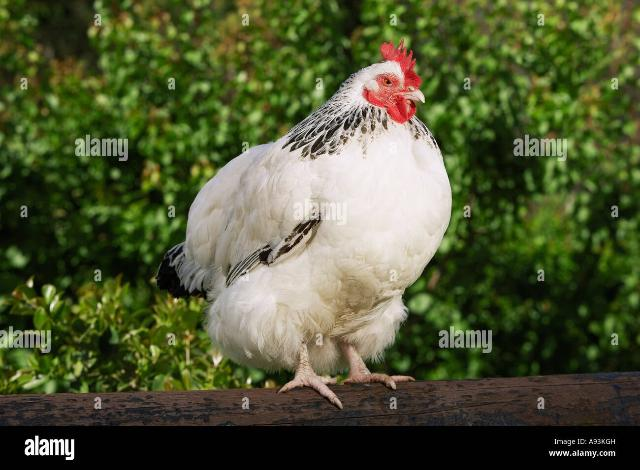Chicken: (158, 38, 453, 409)
